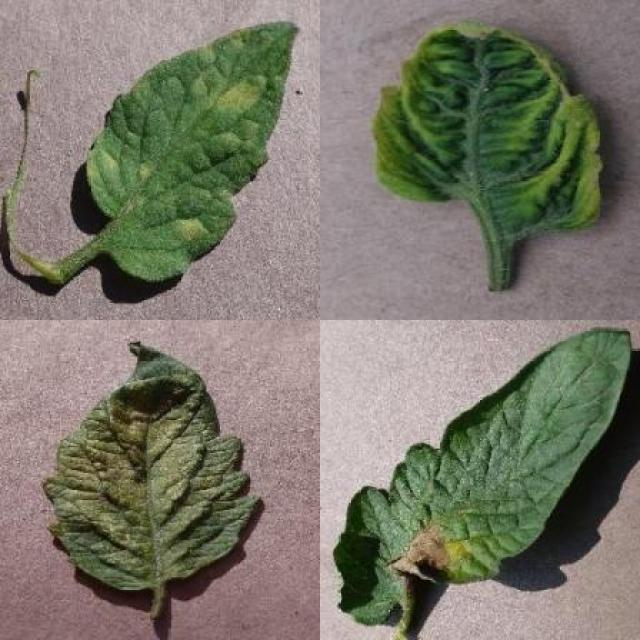Late Blight: (332, 326, 632, 626)
Leaf Mold: (84, 21, 299, 280)
Spider Mites: (42, 340, 261, 593)
Yellow Leaf Curl Virus: (371, 22, 605, 244)
